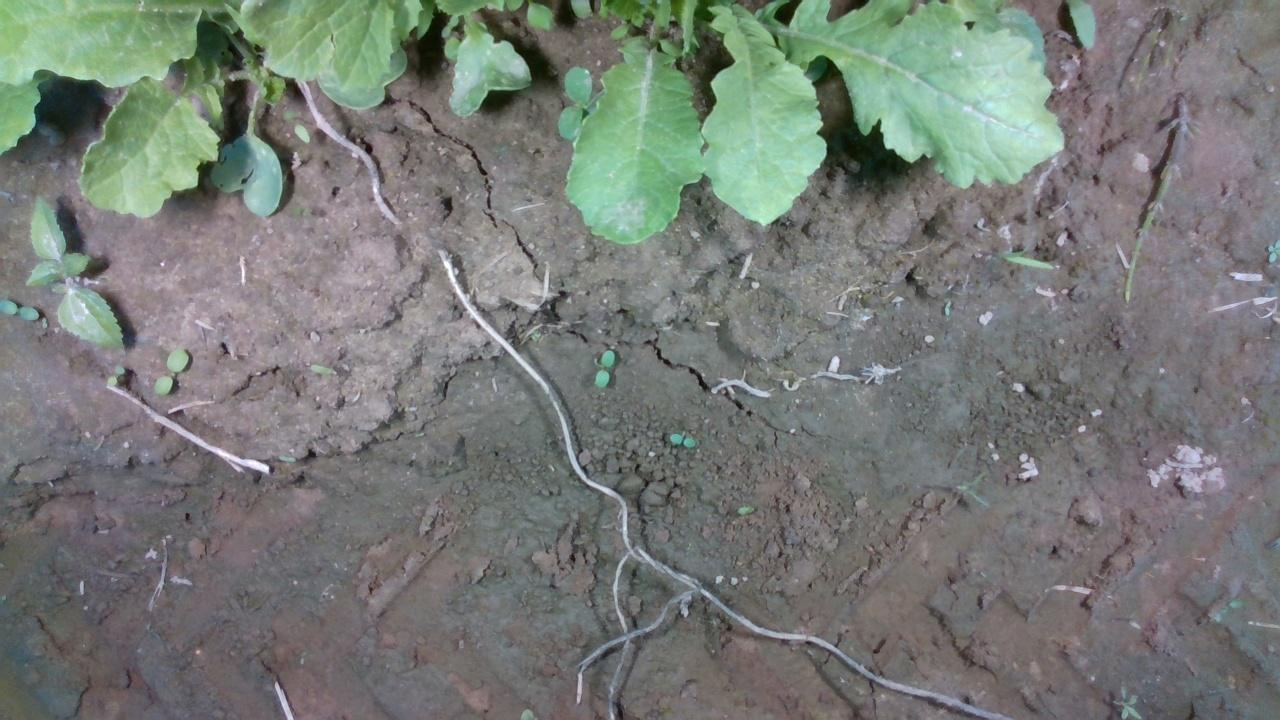weed: (151, 346, 190, 397)
